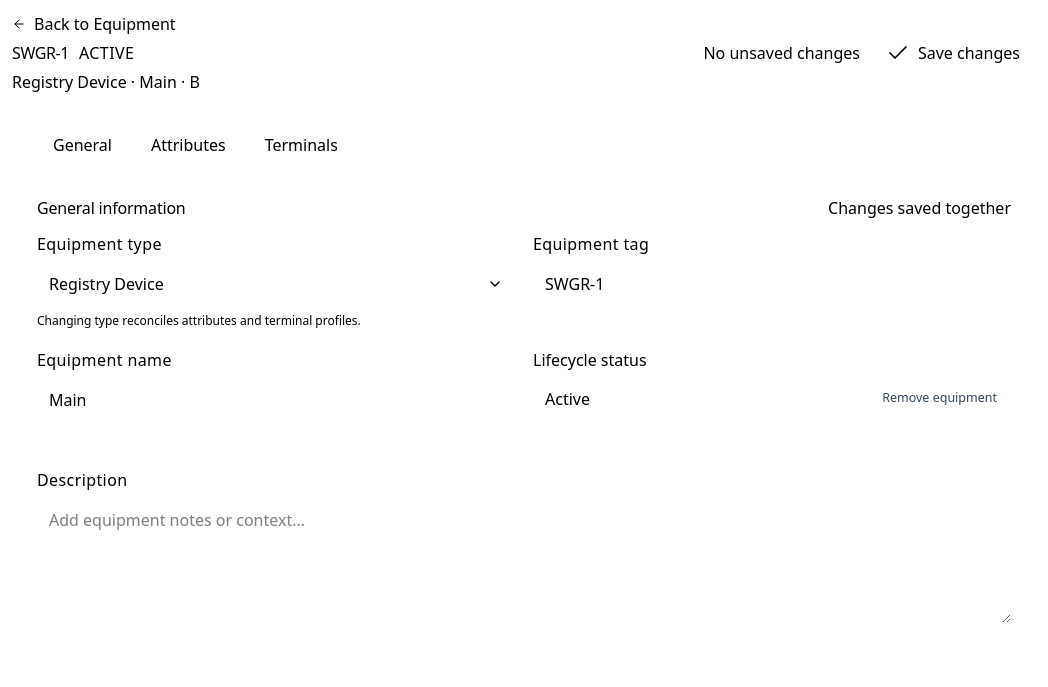
revision model workspace › locks locally and refreshes after a stale read-only response
Replace the text in the field labelled "Equipment tag" with "Changed" at (772, 284), box [533,262,1011,306]
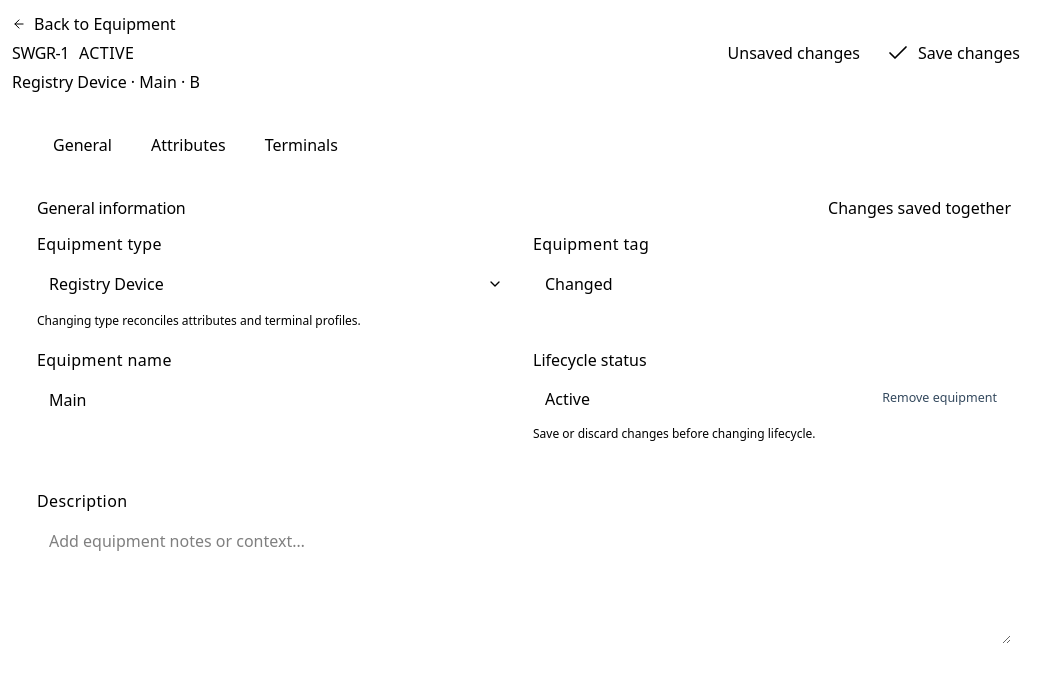
Click the button "Save changes".
click(953, 53)  # box [870,34,1036,73]
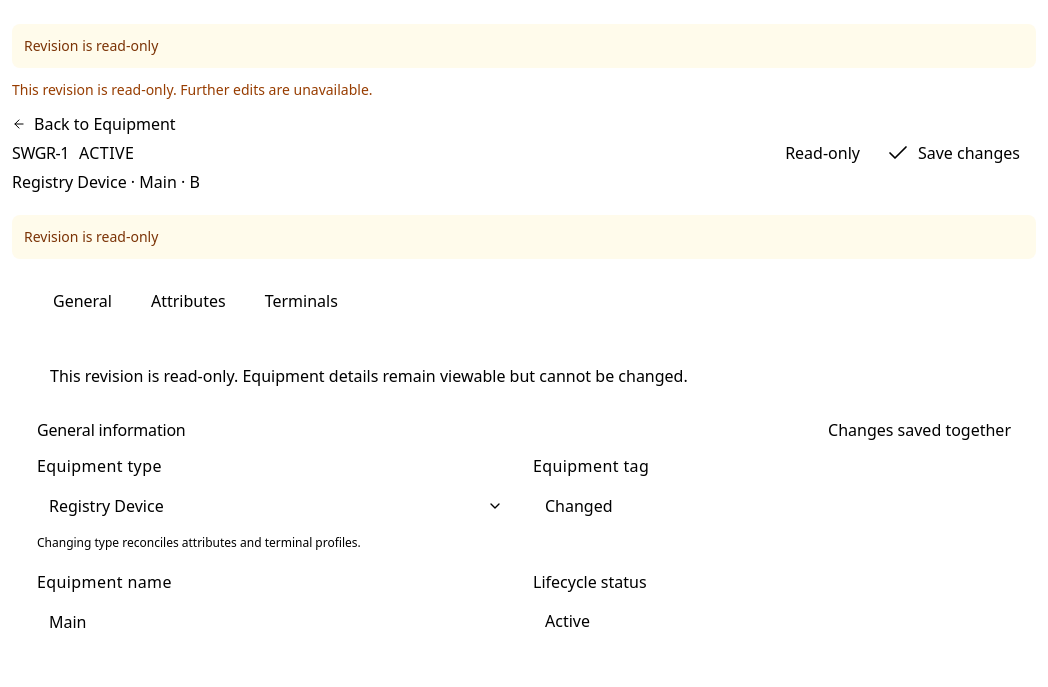
Now the text "This revision is read-only. Further edits are unavailable." is shown, box [12,80,373,99]
Now the button "Save changes" is disabled, box [870,134,1036,173]
